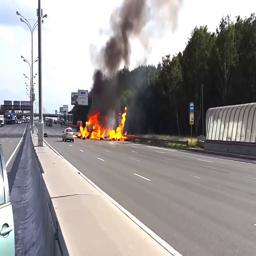fire: (80, 106, 129, 140)
